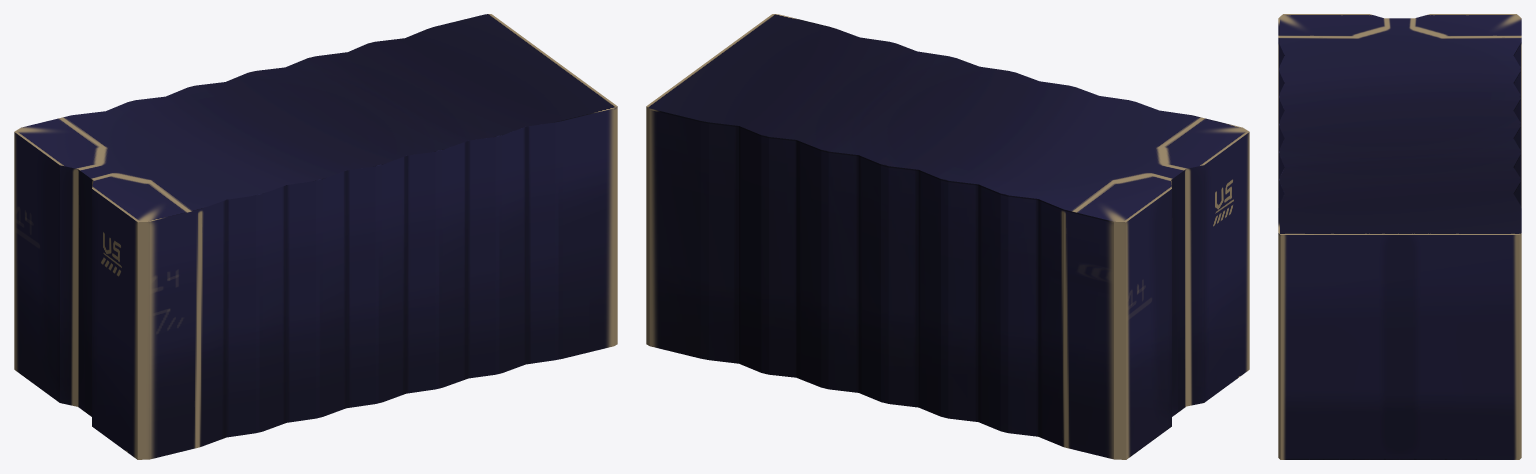
The model's file is Shipping container.fbx.
3 renders of one model, left to right at view 1: azimuth 30°, elevation 25°; view 2: azimuth 150°, elevation 25°; view 3: azimuth 270°, elevation 25°, orthographic. The views are drawn at different scales.
Parts seen in each view (by area): view 1: Cube; view 2: Cube; view 3: Cube.
Boxes of the visible parts, x1=… form: Cube: x1=14, y1=14, x2=617, y2=459; Cube: x1=646, y1=14, x2=1249, y2=459; Cube: x1=1278, y1=14, x2=1521, y2=459.
Bounding box in the file's own units: 613 × 291 × 286.
1 material, 1 textured.
